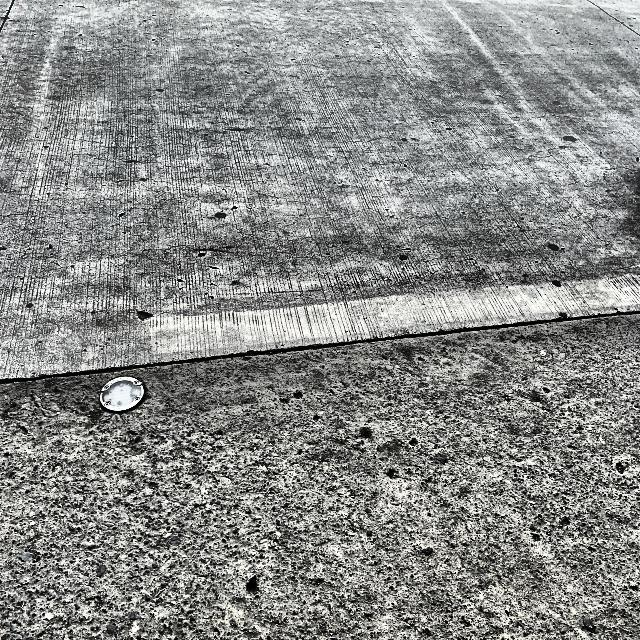no_or_faded_road_markings: (149, 278, 638, 355)
